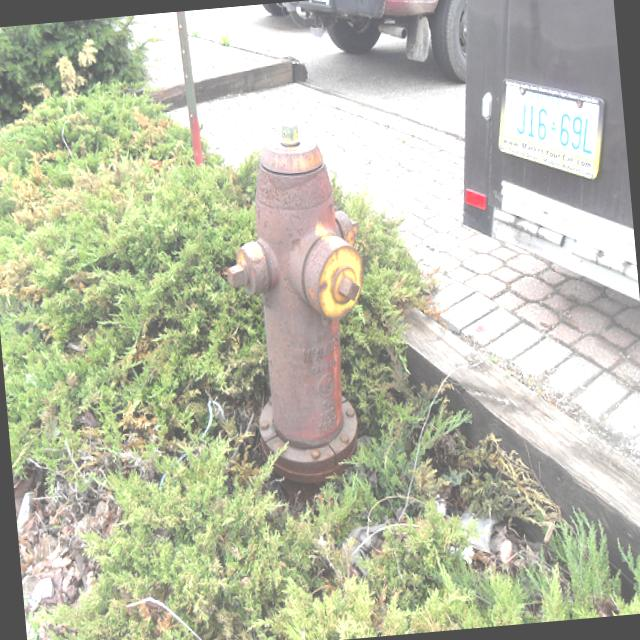Vehicle: (436, 0, 640, 336), (437, 0, 640, 335), (235, 0, 479, 91), (236, 0, 308, 33)
